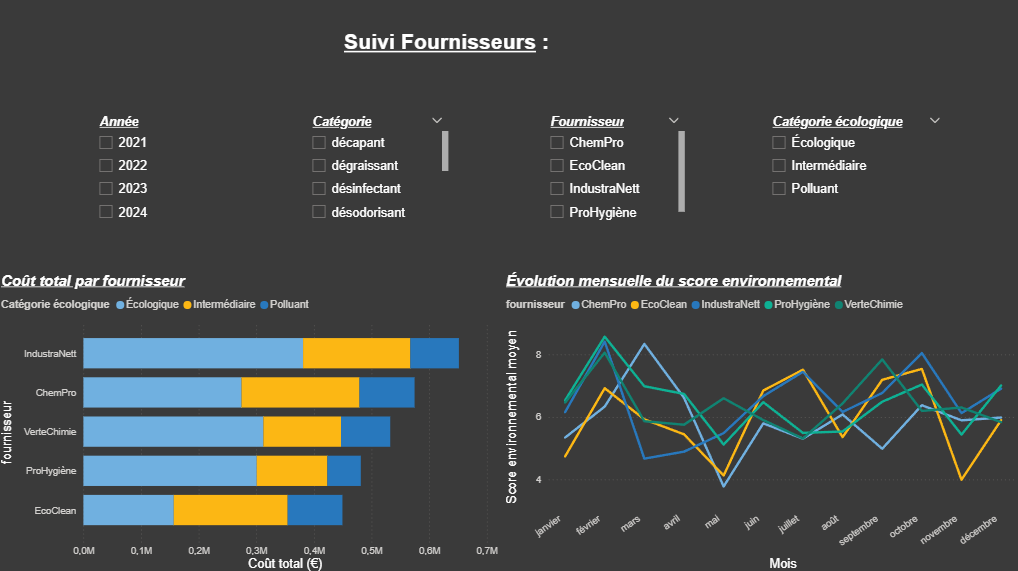

This screenshot's page, from the dashboard's own definition file:
{"tool":"powerbi","page":{"name":"Suivi Fournisseur","canvas":[1280,720],"ordinal":2},"visuals":[{"type":"barChart","title":" Coût total par fournisseur","fields":{"Category":["produits_clean.fournisseur"],"Y":["produits_clean.Coût total (€)"],"Series":["produits_clean.Catégorie écologique"]},"box":[0,341.2,631.2,378.8],"z":0},{"type":"lineChart","title":"Évolution mensuelle du score environnemental","fields":{"Category":["DIM_Temps.mois_label.Variation.Hiérarchie de dates.Mois"],"Y":["produits_clean.Score environnemental moyen"],"Series":["produits_clean.fournisseur"]},"box":[631.2,341.2,648.8,378.8],"z":1},{"type":"textbox","box":[428.8,33.8,278.8,58.8],"z":2},{"type":"slicer","fields":{"Values":["produits_clean.mois_label.Variation.Hiérarchie de dates.Année"]},"box":[115,140,175,151.2],"z":3},{"type":"slicer","fields":{"Values":["produits_clean.categorie"]},"box":[381.2,140,187.5,151.2],"z":4},{"type":"slicer","fields":{"Values":["produits_clean.fournisseur"]},"box":[678.8,140,186.2,151.2],"z":5},{"type":"slicer","fields":{"Values":["produits_clean.Catégorie écologique"]},"box":[956.2,140,235,151.2],"z":6}]}

Visuals, with their boxes in screenshot pixels (x1, y1, x2, y2), scaled from the page's 1280x720 canvas onto the 1018x571 screenshot:
" Coût total par fournisseur" barChart: 0 271 502 570
"Évolution mensuelle du score environnemental" lineChart: 502 271 1017 570
textbox: 341 27 563 73
slicer - produits_clean.mois_label.Variation.Hiérarchie de dates.Année: 91 111 231 231
slicer - produits_clean.categorie: 303 111 452 231
slicer - produits_clean.fournisseur: 540 111 688 231
slicer - produits_clean.Catégorie écologique: 760 111 947 231
